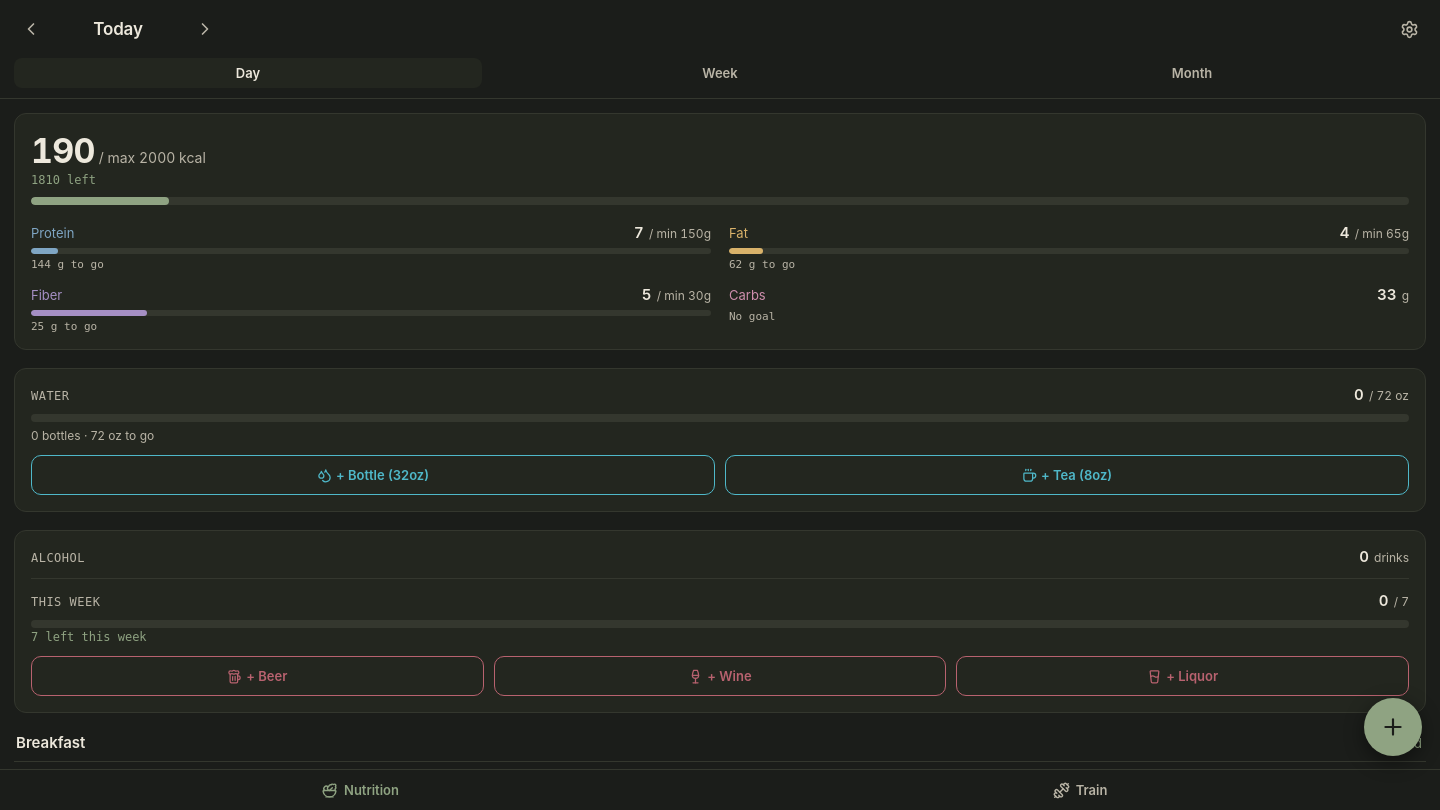
App › clears the search box with its button, and puts the cursor back
Click the button named "Add food".
click(1393, 727)  # box [1364, 698, 1422, 756]
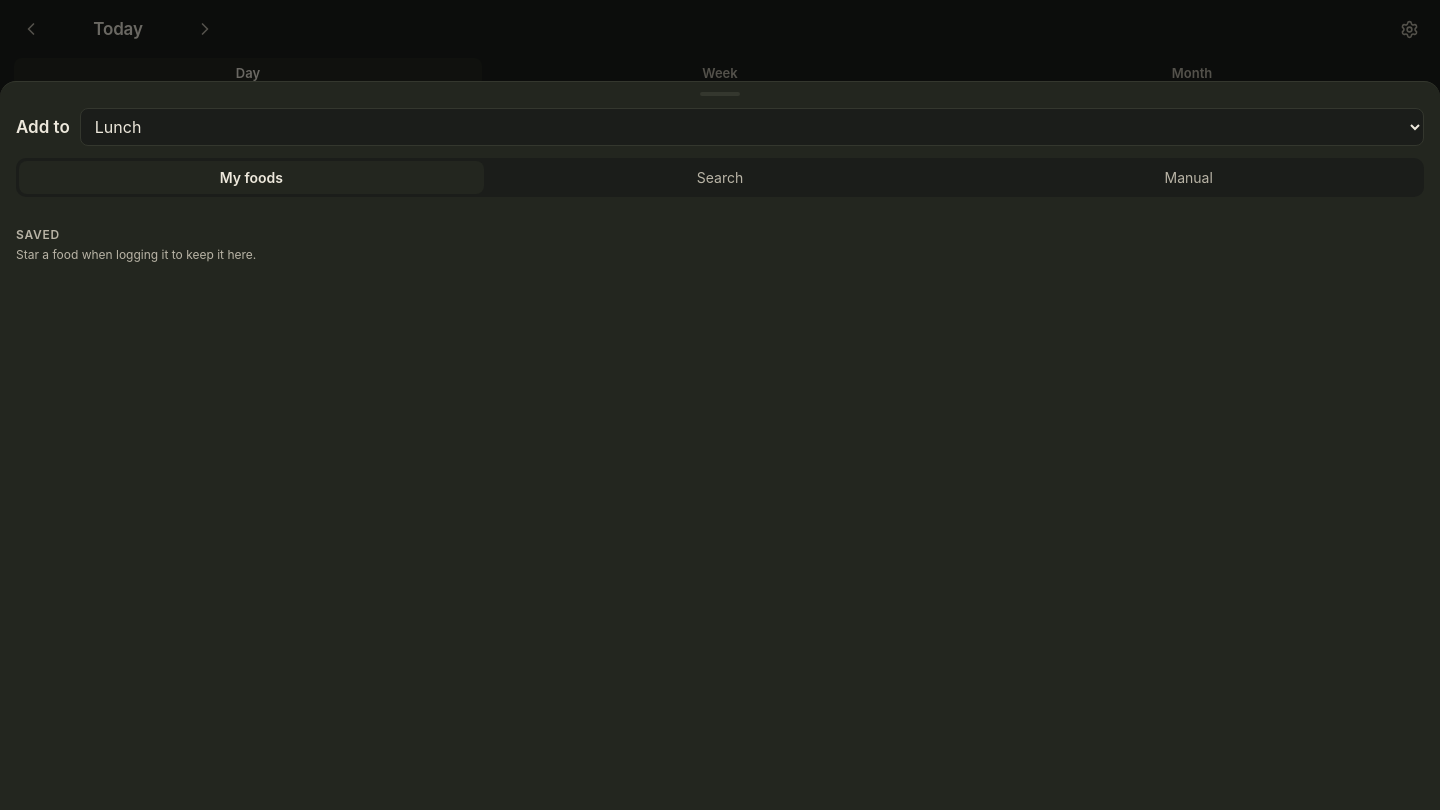
Click the tab "Search".
click(720, 178)  # box [488, 161, 952, 194]
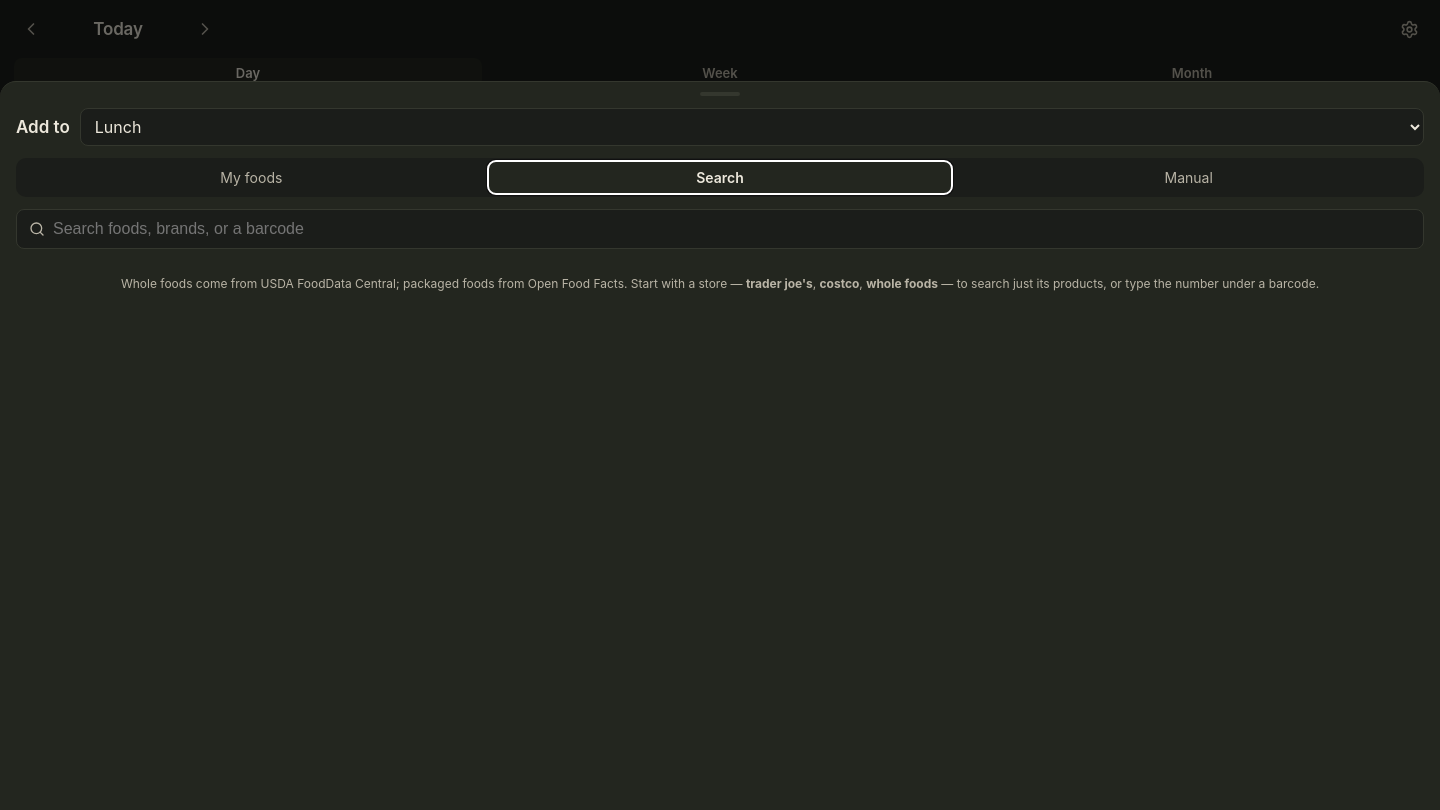
Type "banana" into the search field labelled "Search foods".
click(732, 229); type("banana")  # box [53, 220, 1411, 238]
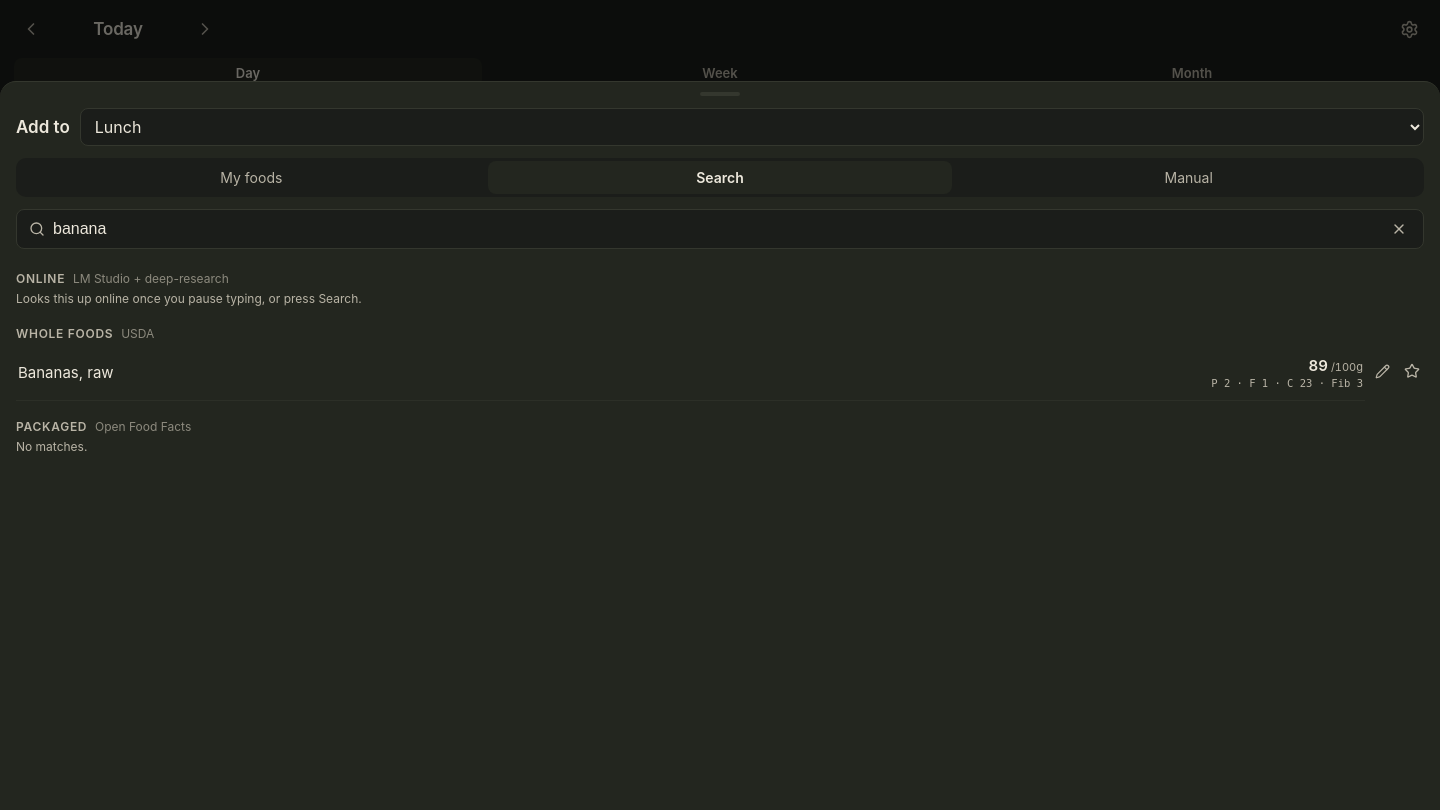
Expected: the text "Bananas, raw" is shown, [18, 363, 114, 382]
Click the button named "Clear search".
click(1399, 229)  # box [1383, 213, 1415, 245]
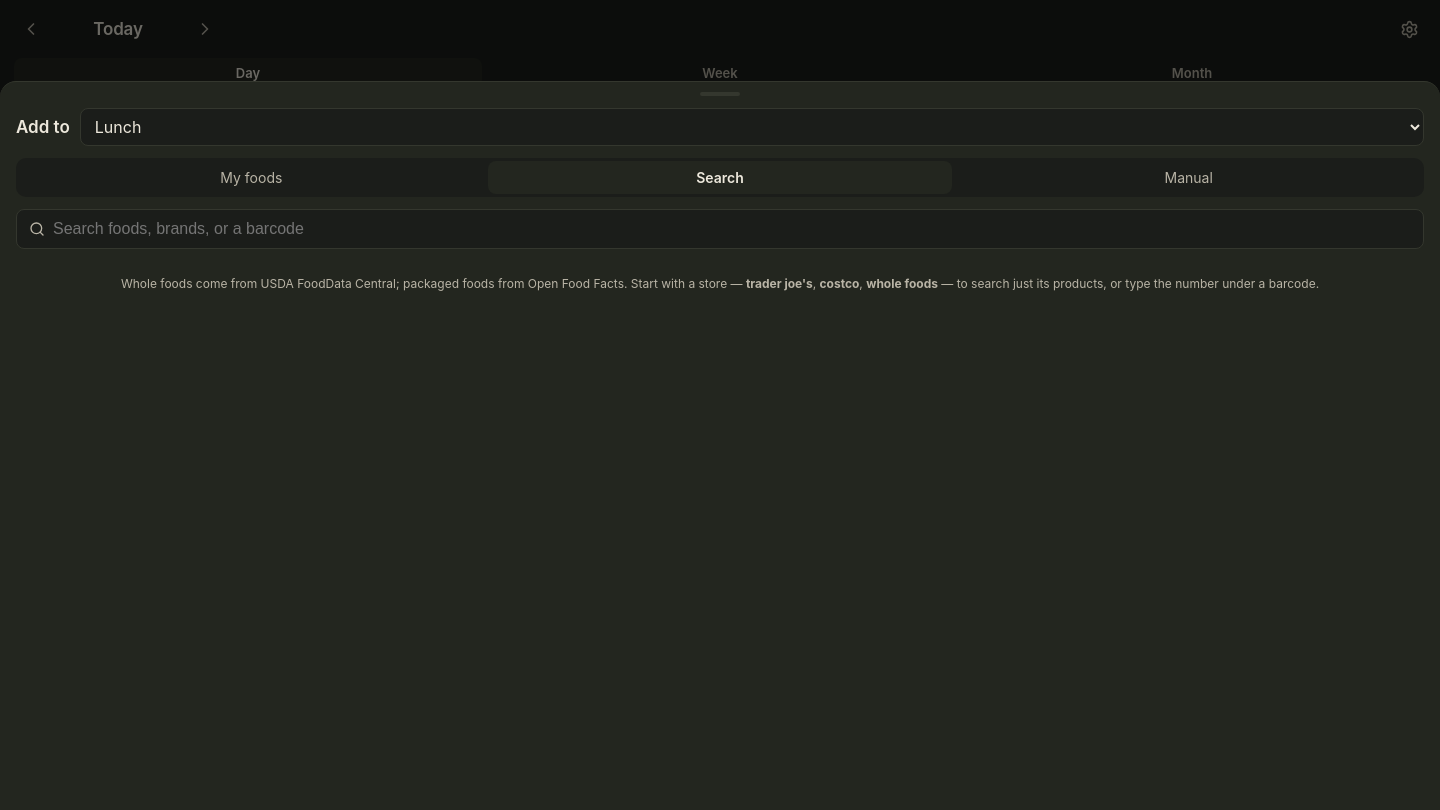
Expected: the search field labelled "Search foods" is empty, [53, 220, 1411, 238]
Expected: the button "Bananas, raw" is gone
